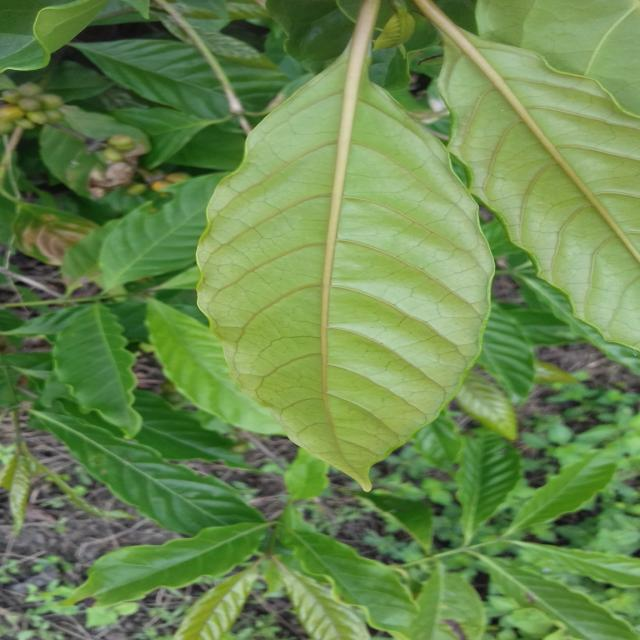Sanas: (193, 0, 481, 489)
